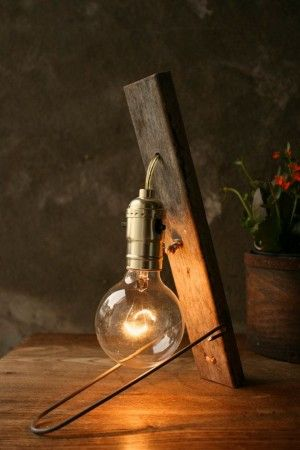Light_bulb: (92, 189, 191, 372)
